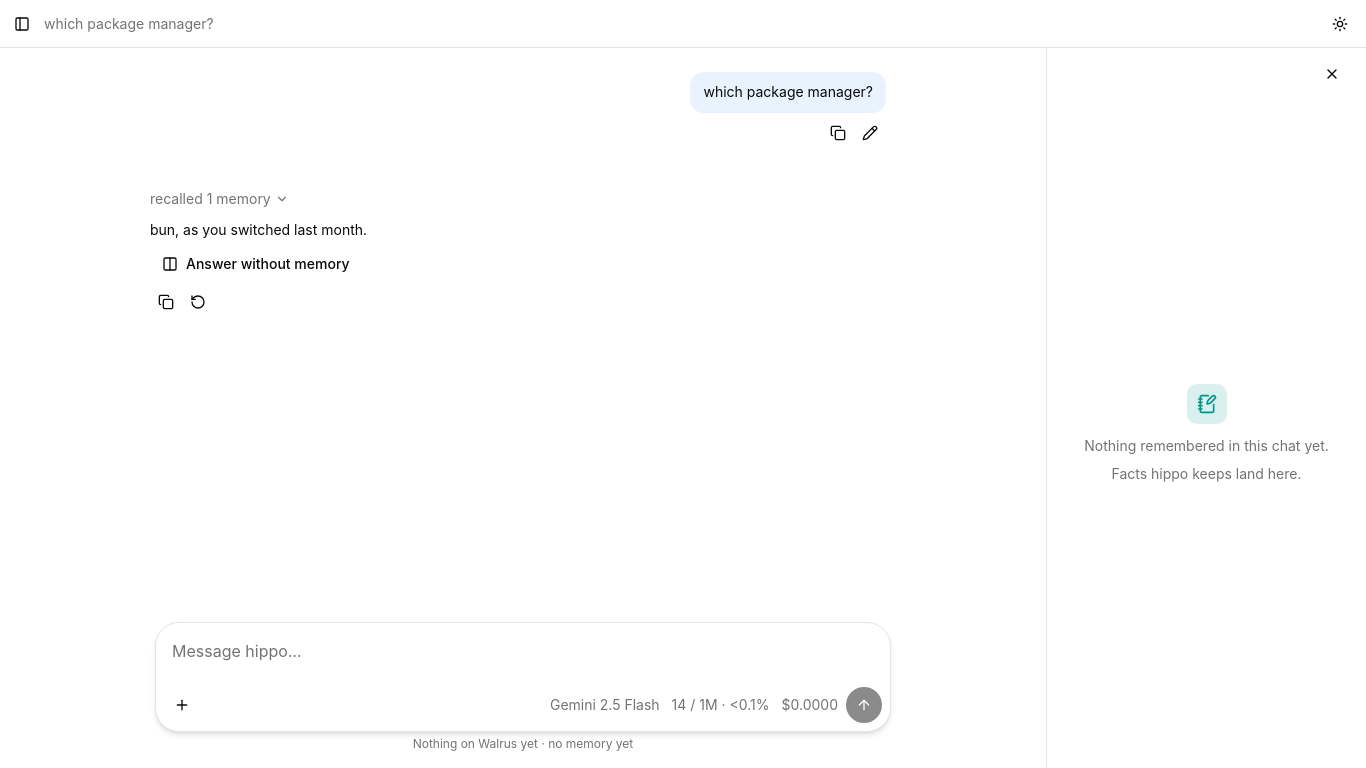
Test: chat page › answers again without memory beside an answer that used memory
Click the button "Answer without memory": [256, 264] box [150,246,362,282]
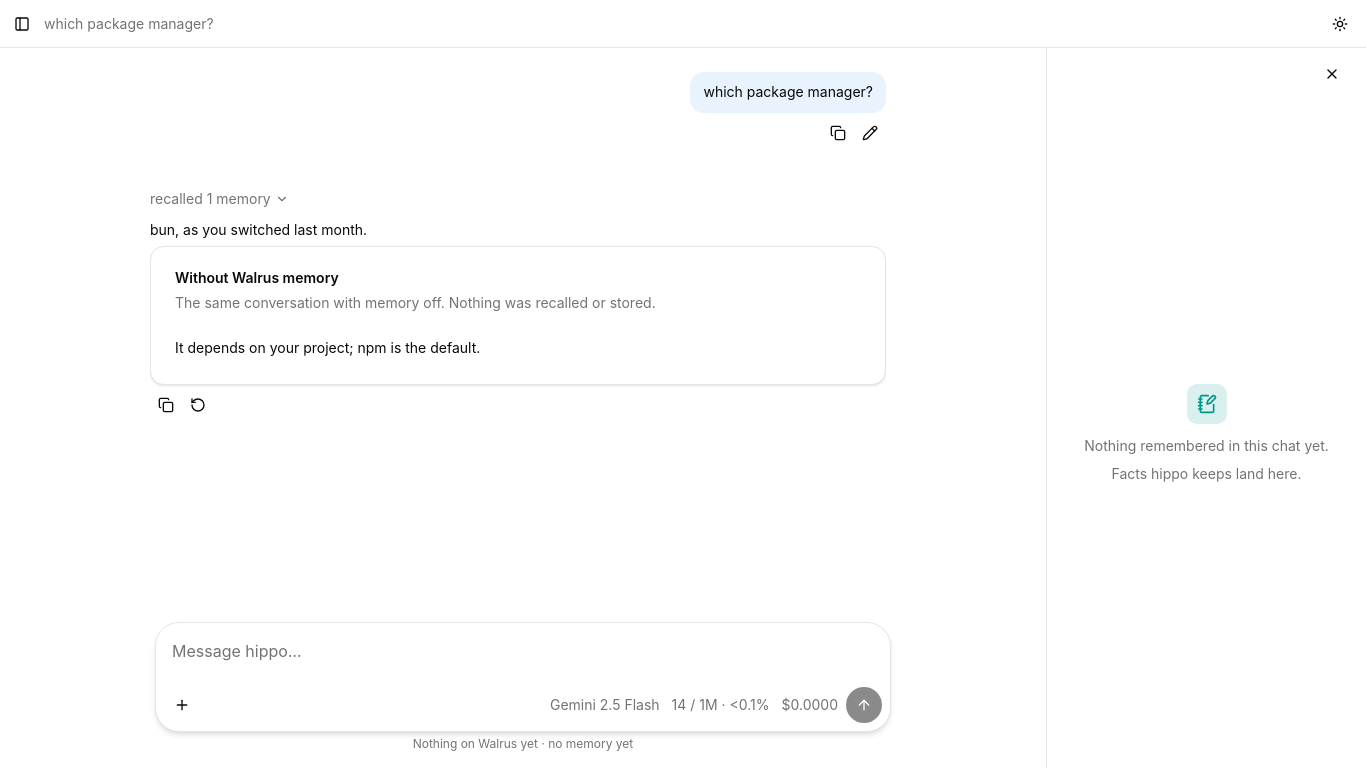
Check: the text "Without Walrus memory" is shown, box [175,268,339,286]
Check: the text "It depends on your project; npm is the default." is shown, box [175,338,480,356]
